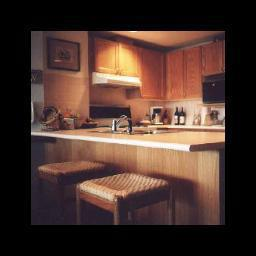Lavaplatos: (84, 120, 163, 136)
